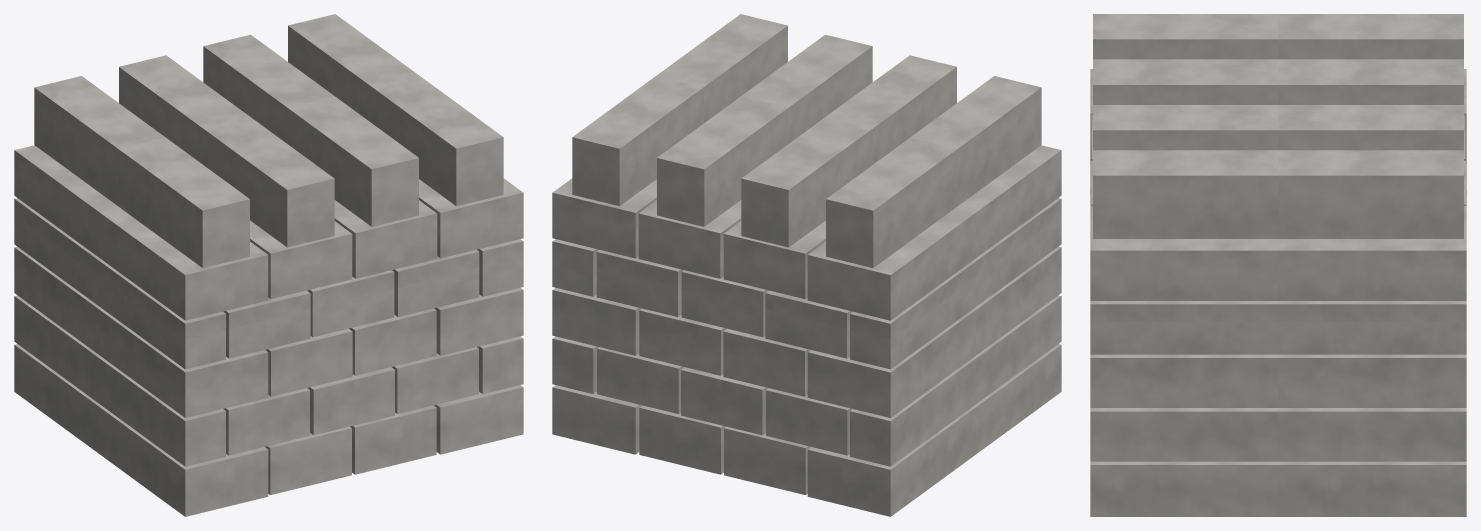
The model's file is 흉벽성벽.fbx.
3 views of the same model, side by side, from view 1: azimuth 30°, elevation 25°; view 2: azimuth 150°, elevation 25°; view 3: azimuth 270°, elevation 25° (orthographic). The views are drawn at different scales.
Visible parts, largest first — view 1: 흉벽성벽; view 2: 흉벽성벽; view 3: 흉벽성벽.
Part boxes in pixels (x1,y1,x2,y2): 흉벽성벽: (14, 14, 523, 516); 흉벽성벽: (552, 14, 1061, 516); 흉벽성벽: (1090, 14, 1466, 516).
Size of the model in its own units: 800 by 680 by 700.
Materials: 1 (1 with a texture image).
